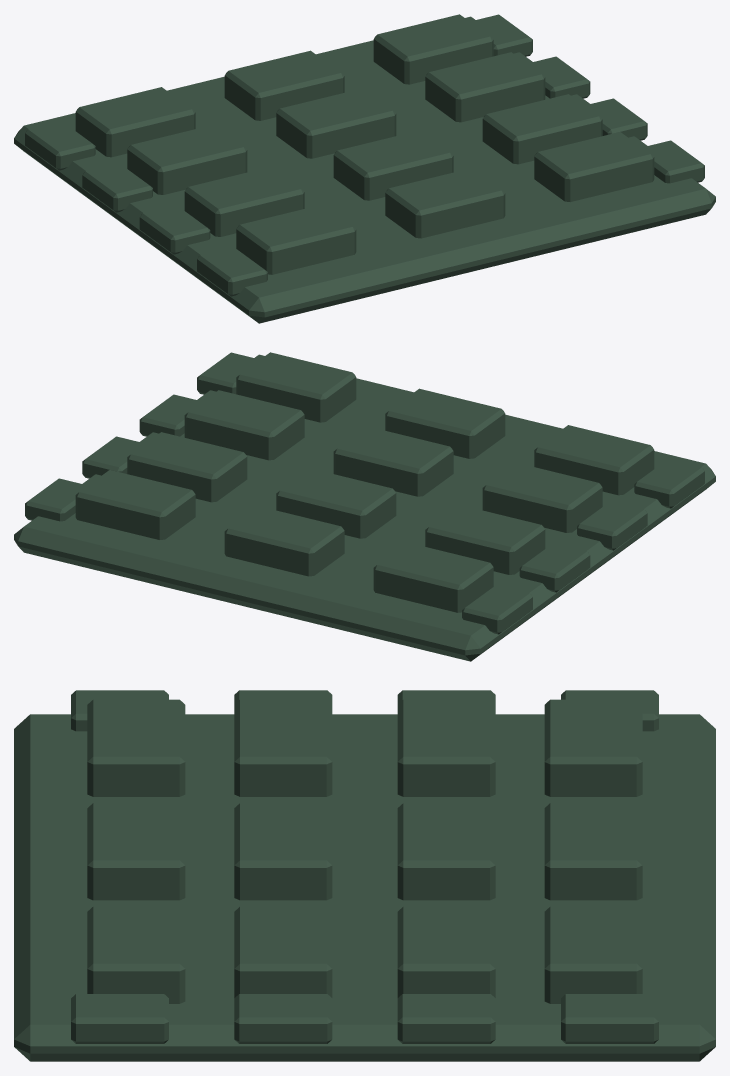
File: ESC.glb
3 renders of one model, top to bottom at view 1: azimuth 30°, elevation 25°; view 2: azimuth 150°, elevation 25°; view 3: azimuth 270°, elevation 25°, orthographic. The views are drawn at different scales.
Parts seen in each view (by area): view 1: ESC; view 2: ESC; view 3: ESC.
Boxes of the visible parts, x1,y1,x2,y2 form: ESC: (14,14,715,323); ESC: (14,352,715,661); ESC: (14,690,715,1061).
Size of the model in its own units: 0.048 by 0.00505 by 0.043.
